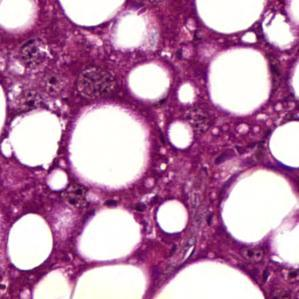steatosis: (7, 214, 59, 271), (128, 65, 175, 102), (157, 197, 193, 237)
